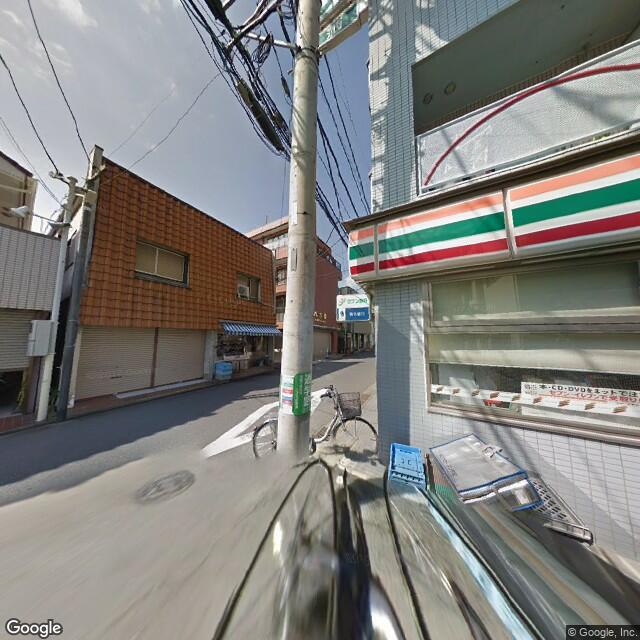7-eleven: (350, 152, 639, 286)
